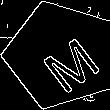M_NW: (25, 21, 96, 89)
